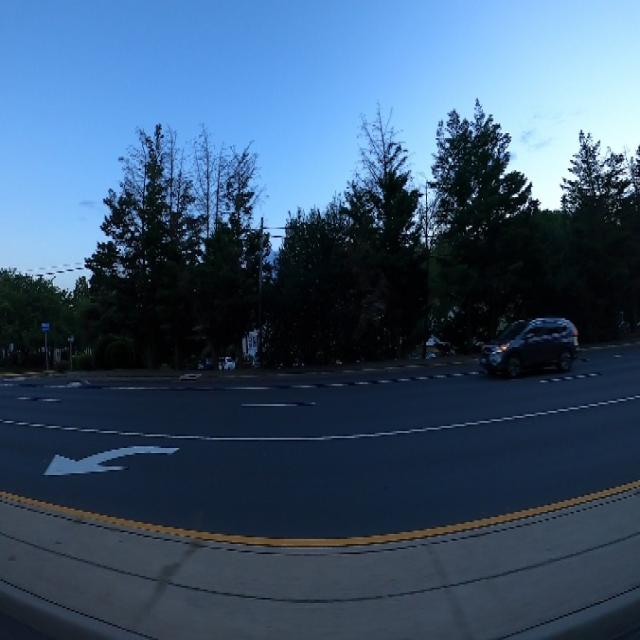car: (477, 302, 581, 386)
